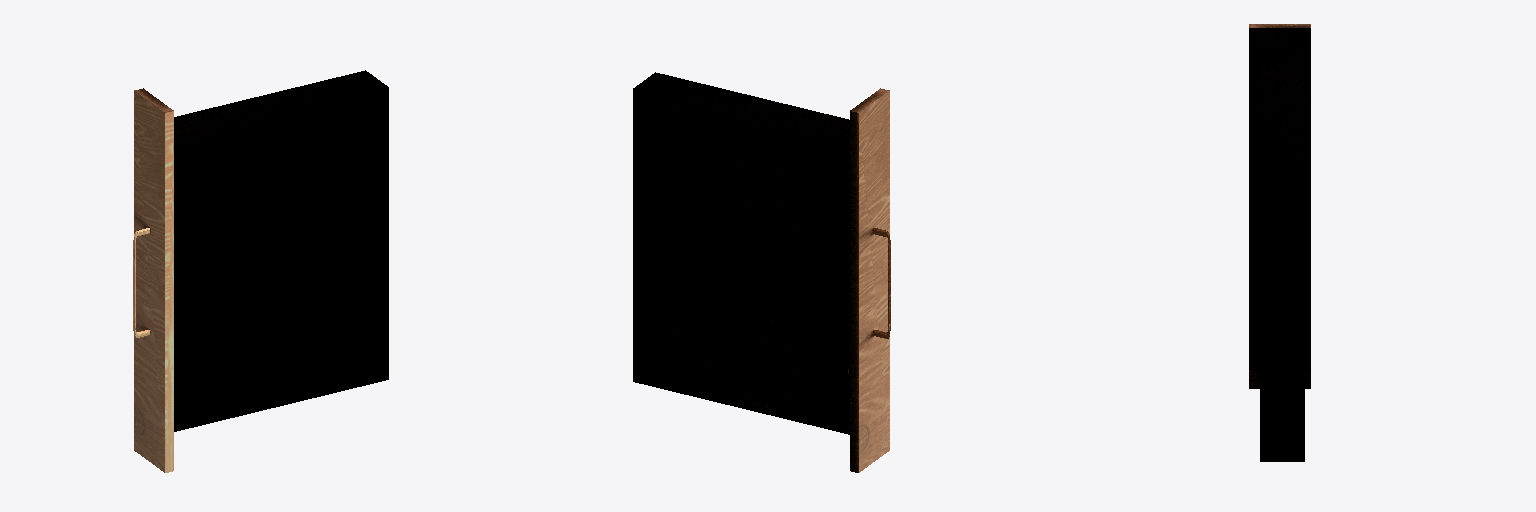
The picture shows the model from 3 angles: view 1: azimuth 30°, elevation 25°; view 2: azimuth 150°, elevation 25°; view 3: azimuth 270°, elevation 25°; orthographic projection.
Visible parts, largest first — view 1: free_13_cabinet_floor_dof_rootd_Aa002_t; view 2: free_13_cabinet_floor_dof_rootd_Aa002_t; view 3: free_13_cabinet_floor_dof_rootd_Aa002_t.
Part boxes in pixels (x1,y1,x2,y2): free_13_cabinet_floor_dof_rootd_Aa002_t: (133, 70, 388, 472); free_13_cabinet_floor_dof_rootd_Aa002_t: (633, 72, 890, 472); free_13_cabinet_floor_dof_rootd_Aa002_t: (1249, 24, 1310, 461).
Bounding box in the file's own units: 0.582 × 0.8174 × 0.1267.
Materials: 1 (1 with a texture image).